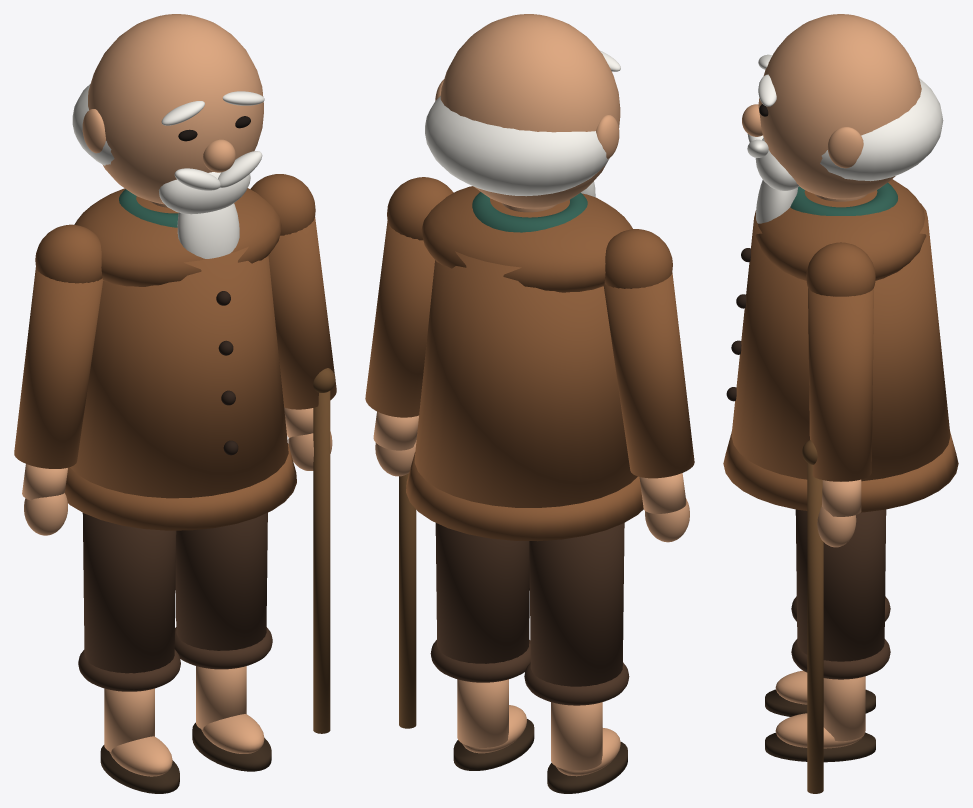
Rendered from old_villager.glb.
3 views of the same model, side by side, from view 1: azimuth 30°, elevation 25°; view 2: azimuth 150°, elevation 25°; view 3: azimuth 270°, elevation 25° (orthographic). The views are drawn at different scales.
Parts seen in each view (by area): view 1: OldVillager; view 2: OldVillager; view 3: OldVillager.
Part boxes in pixels (x1,y1,x2,y2): OldVillager: (14,14,336,793); OldVillager: (365,14,694,793); OldVillager: (723,14,958,793).
Size of the model in its own units: 0.6846 by 1.52 by 0.46.
